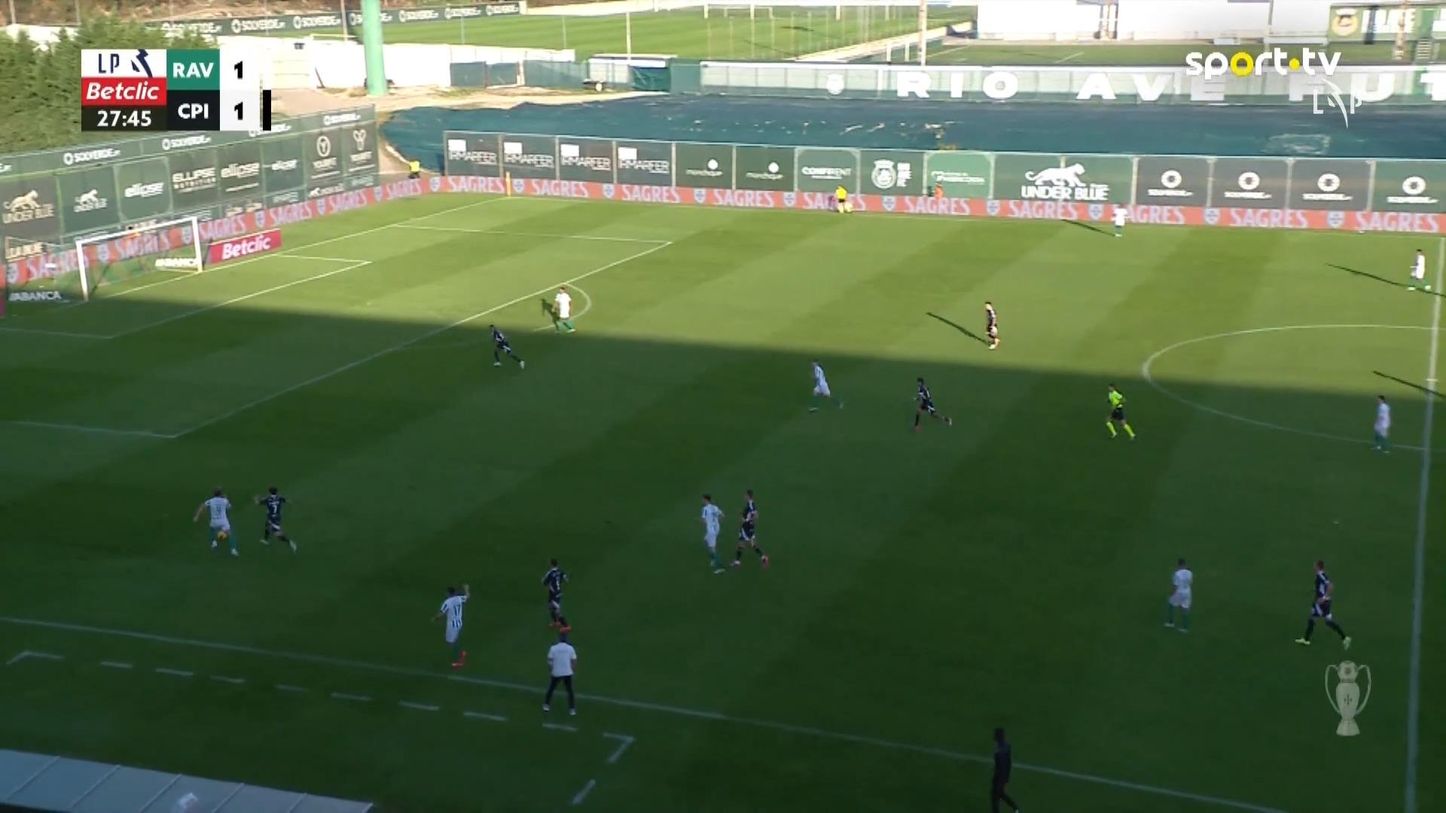ball: (1316, 596, 1329, 611), (217, 528, 229, 540)
player: (1294, 559, 1352, 650), (431, 583, 470, 668), (192, 486, 239, 556), (730, 488, 768, 567), (253, 485, 297, 553), (912, 376, 952, 431), (1163, 557, 1192, 632), (700, 492, 725, 569), (541, 557, 568, 627), (807, 360, 843, 412), (1104, 382, 1136, 440), (487, 323, 525, 370), (548, 285, 575, 333), (1371, 393, 1391, 453), (983, 300, 1000, 349), (1407, 247, 1426, 290), (1110, 202, 1127, 237)
referee: (541, 629, 578, 715), (988, 725, 1019, 811), (833, 184, 850, 213)
